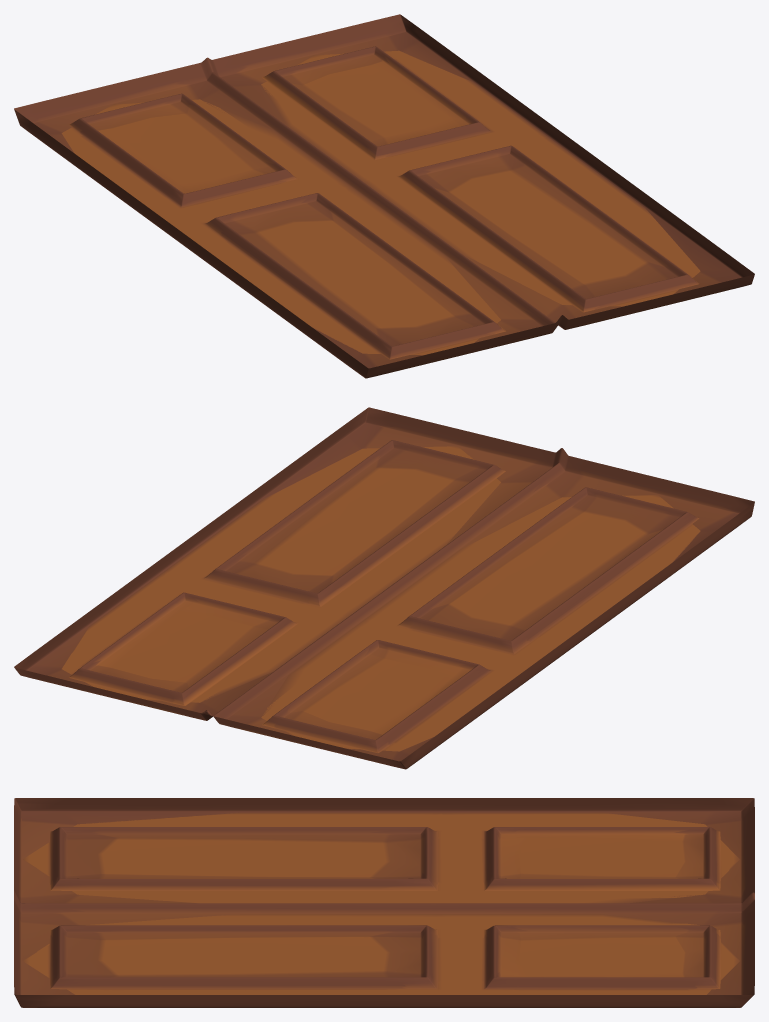
The model's file is puerta.obj.
3 views of the same model, one above another, from view 1: azimuth 30°, elevation 25°; view 2: azimuth 150°, elevation 25°; view 3: azimuth 270°, elevation 25° (orthographic). The views are drawn at different scales.
Parts seen in each view (by area): view 1: mesh_id6_sep774; view 2: mesh_id6_sep774; view 3: mesh_id6_sep774.
Part boxes in pixels (x1=…): mesh_id6_sep774: x1=14, y1=14, x2=754, y2=378; mesh_id6_sep774: x1=14, y1=407, x2=754, y2=769; mesh_id6_sep774: x1=14, y1=798, x2=754, y2=1007.
Bounding box in the file's own units: 0.029 × 0.0014 × 0.046.
Materials: 1 (1 with a texture image).
